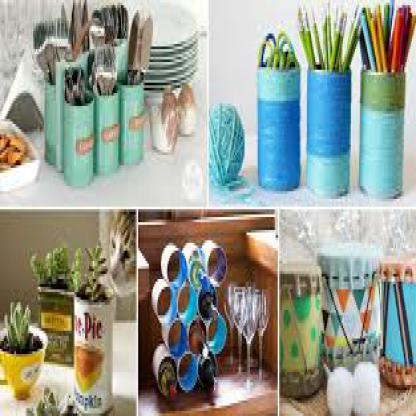GLASS: (239, 292, 255, 385), (253, 287, 267, 390), (231, 287, 243, 382), (222, 282, 235, 362), (157, 356, 177, 398), (198, 354, 217, 393), (243, 282, 251, 370), (198, 284, 217, 320), (187, 250, 205, 286), (189, 318, 206, 356)
METAL: (319, 248, 379, 385), (358, 62, 404, 204), (279, 258, 322, 396), (307, 60, 350, 197), (256, 60, 300, 192), (72, 284, 110, 414), (378, 256, 414, 385), (32, 2, 69, 82), (37, 284, 73, 362), (125, 10, 151, 80), (89, 0, 128, 44), (86, 44, 115, 93), (70, 0, 87, 55), (63, 67, 85, 106)
